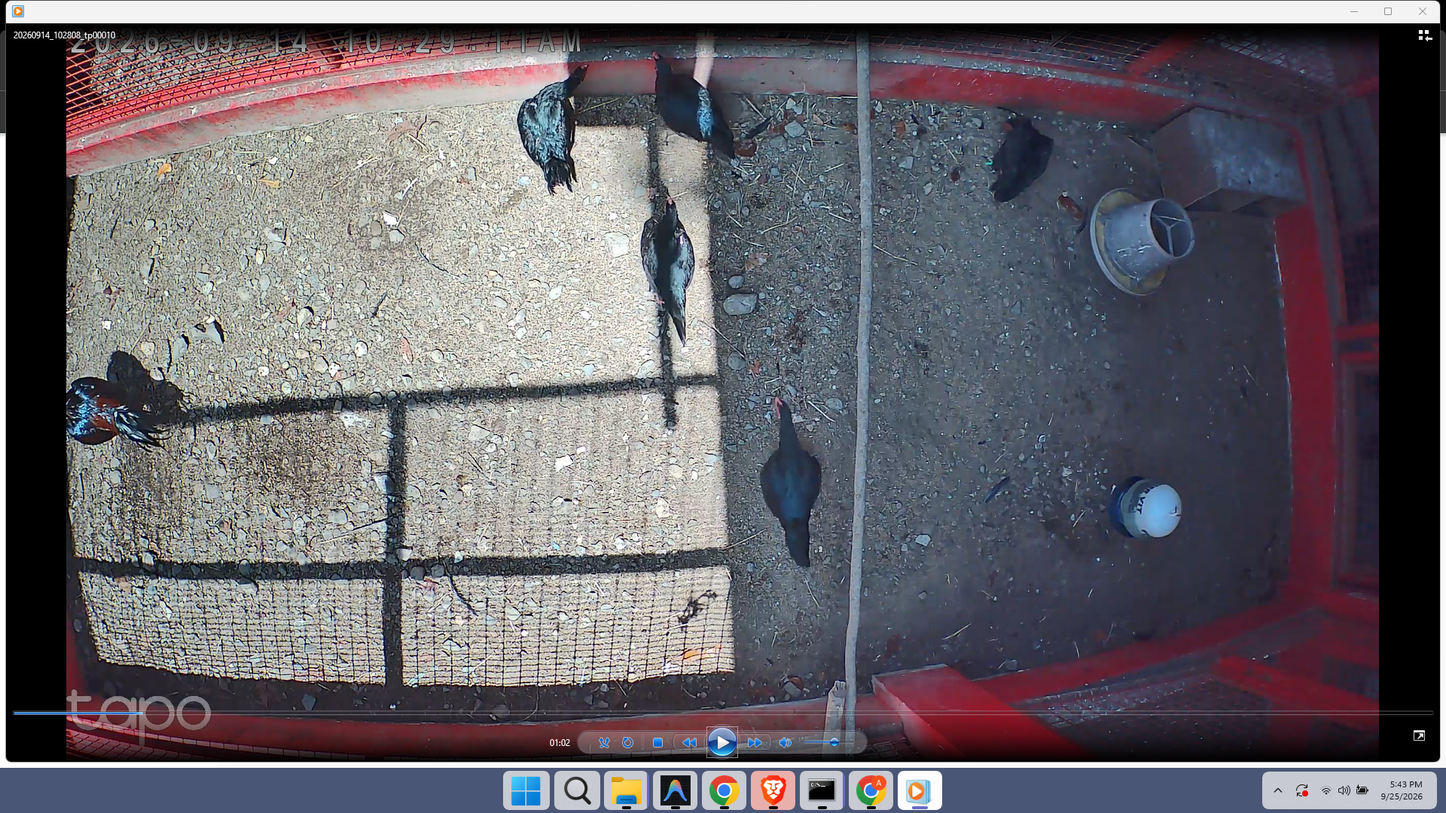Chicken: (749, 393, 831, 570), (642, 45, 739, 161), (518, 58, 591, 204), (640, 191, 697, 346), (983, 116, 1058, 206)
Drinker: (1111, 475, 1183, 539)
Feeder: (1087, 186, 1195, 297)
Leg_Band_Green: (984, 159, 995, 166)
Leg_Band_Pink: (645, 295, 666, 307)
Rooster: (60, 375, 178, 460)
